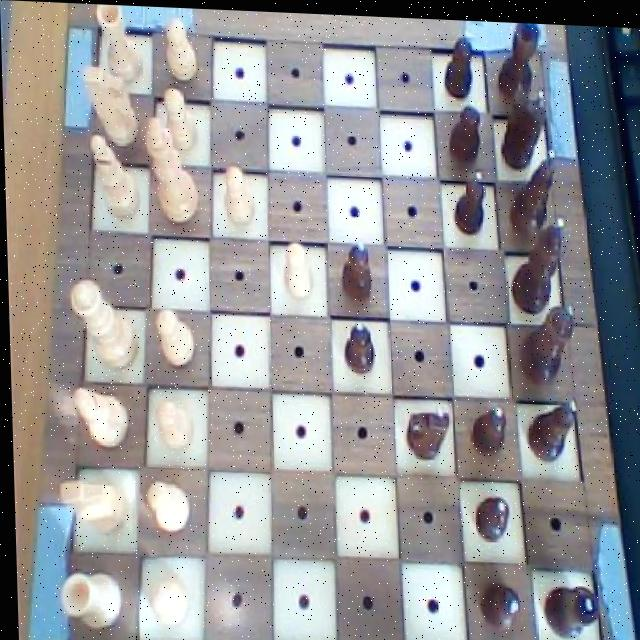bishop: (504, 139, 562, 240), (522, 391, 580, 464)
black-bishop: (504, 205, 573, 315)
black-king: (497, 71, 549, 164), (396, 398, 452, 464)
black-knight: (439, 89, 486, 167), (446, 163, 492, 237), (334, 231, 376, 305), (442, 22, 480, 101), (463, 396, 509, 459), (466, 483, 512, 545), (473, 571, 520, 631), (338, 313, 379, 376)
black-pawn: (513, 295, 579, 385)
black-queen: (489, 17, 545, 102), (536, 574, 599, 635)
black-rook: (85, 126, 141, 224), (69, 380, 130, 455)
white-bishop: (138, 111, 204, 232)
white-king: (77, 61, 143, 150), (52, 469, 126, 540)
white-knight: (138, 567, 192, 633), (151, 301, 196, 373), (140, 472, 191, 535), (160, 81, 201, 158), (147, 394, 194, 457), (159, 12, 199, 86), (276, 231, 315, 304), (219, 158, 256, 232)
white-pawn: (66, 275, 141, 374)
white-queen: (50, 560, 124, 635), (90, 3, 146, 88)
